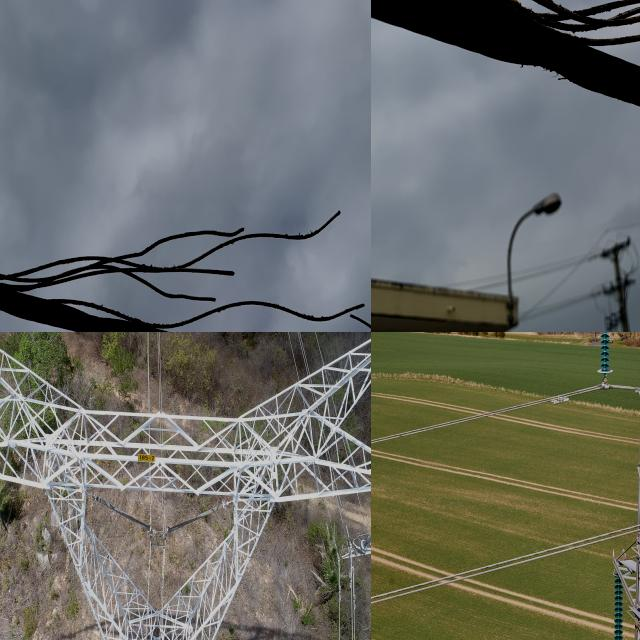杆塔: (0, 332, 371, 640)
正常电缆: (371, 515, 620, 617), (371, 369, 592, 458)
正常绝缘子: (91, 492, 153, 536), (166, 498, 228, 537), (611, 566, 625, 640), (597, 332, 615, 382)
电缆破损: (0, 200, 371, 332), (371, 0, 640, 117)
